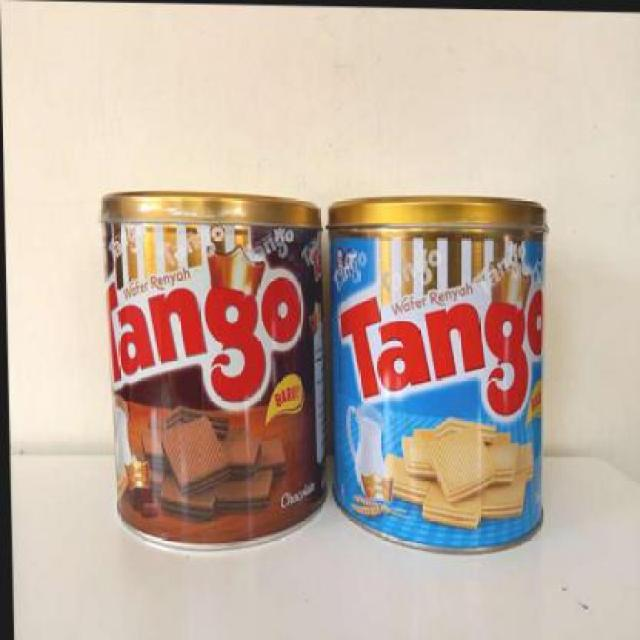Metal: (98, 186, 555, 558)
